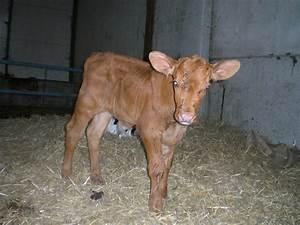cow: (59, 49, 240, 215)
